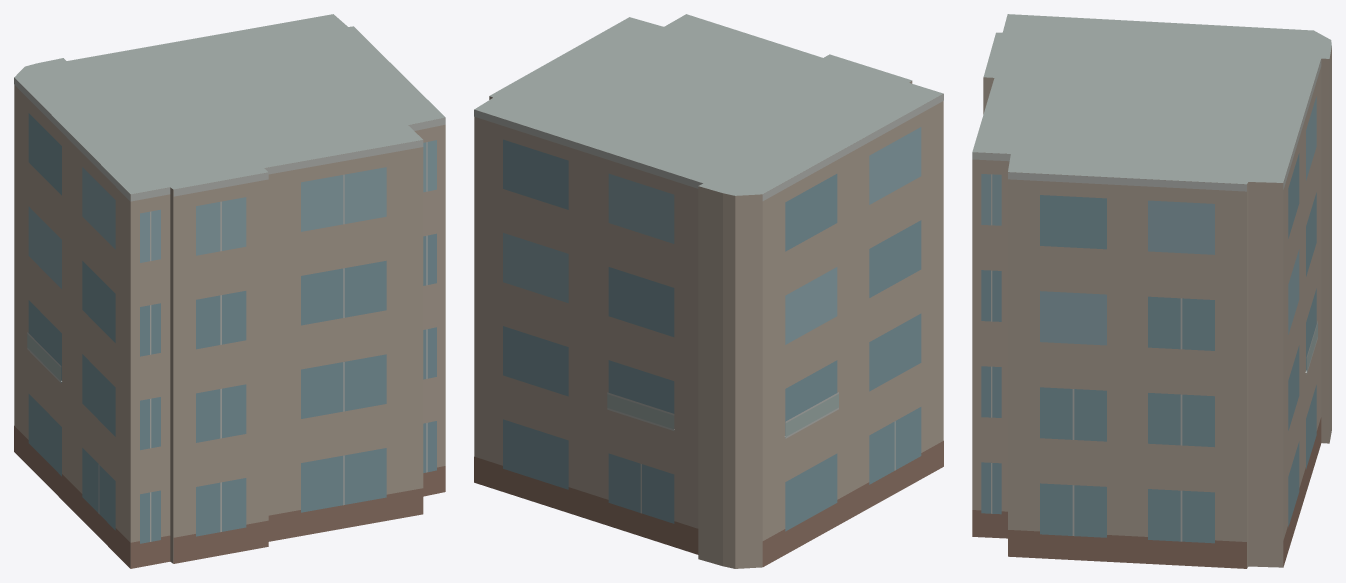
Rendered from survey-upis-32680098.glb.
3 renders of one model, left to right at view 1: azimuth 30°, elevation 25°; view 2: azimuth 150°, elevation 25°; view 3: azimuth 270°, elevation 25°, orthographic. The views are drawn at different scales.
Visible parts, largest first — view 1: survey-upis-32680098.tmp; view 2: survey-upis-32680098.tmp; view 3: survey-upis-32680098.tmp.
Part boxes in pixels (box(x1,y1,x2,y2)): survey-upis-32680098.tmp: box(14, 14, 445, 568); survey-upis-32680098.tmp: box(474, 14, 943, 568); survey-upis-32680098.tmp: box(972, 14, 1331, 568).
Size of the model in its own units: 12.16 by 12.8 by 10.85.
